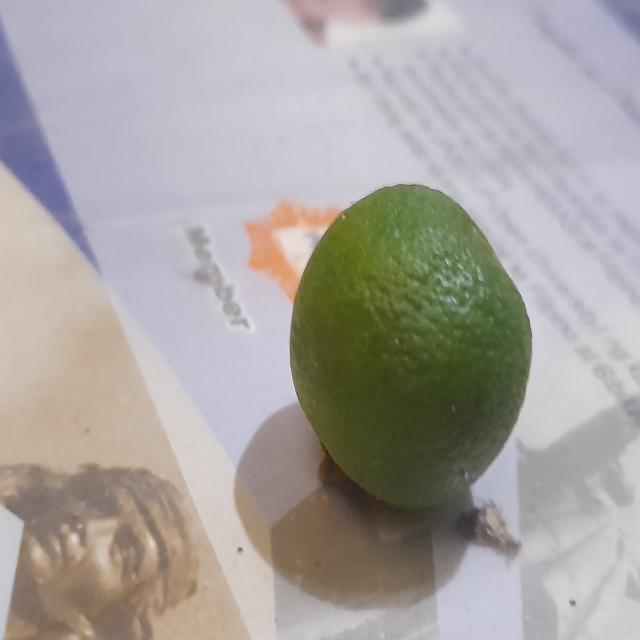heathy: (285, 181, 534, 508)
